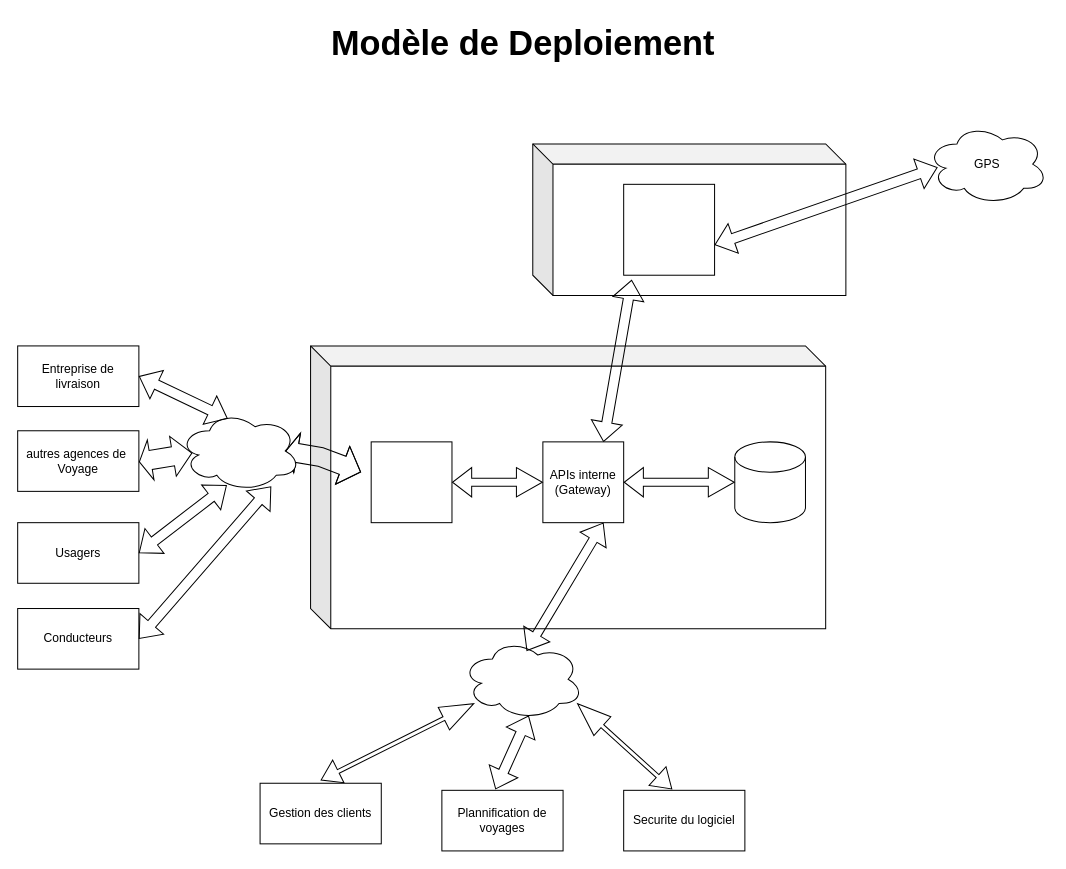
Image size: 1066x869. Some labels were removed from this diagram. The centre of each missing label's shape, as x and y in pixels:
"API externe (OpenStreetMap)" goes at pixel 669 229.
"Base de donnees" goes at pixel 769 482.
"internet" goes at pixel 239 450.
"Internet ou local" goes at pixel 522 679.
"Plateforme" goes at pixel 411 482.
